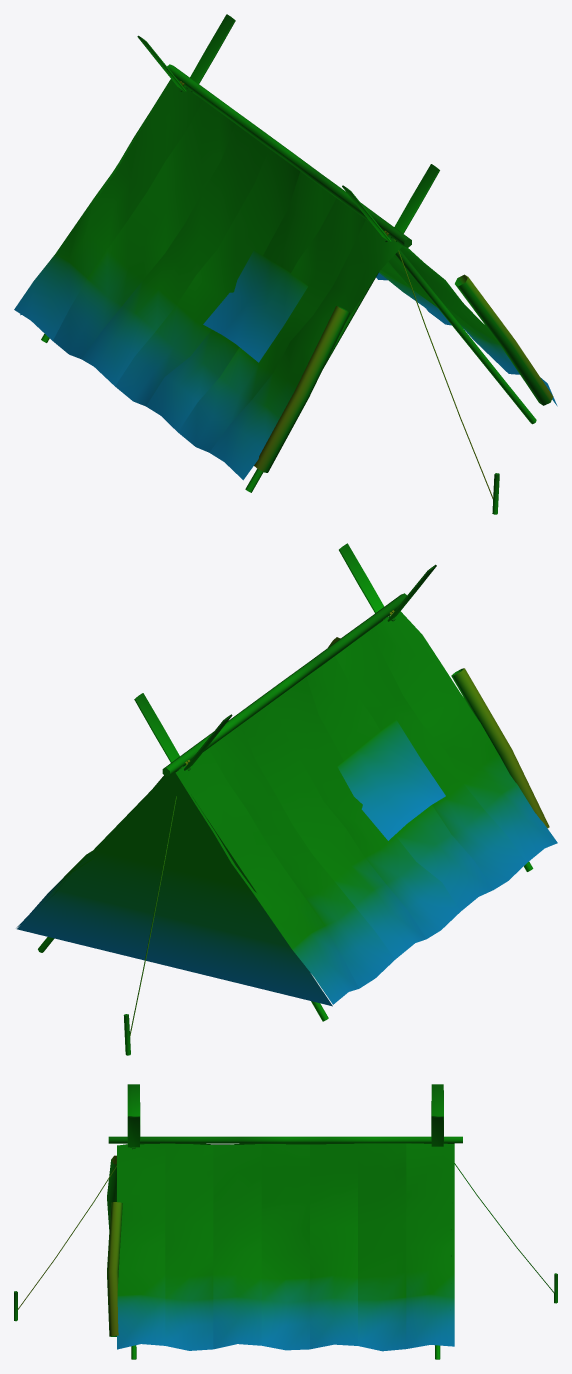
Rendered from camp_tent.glb.
The picture shows the model from 3 angles, top to bottom: view 1: azimuth 30°, elevation 25°; view 2: azimuth 150°, elevation 25°; view 3: azimuth 270°, elevation 25°; orthographic projection. The views are drawn at different scales.
Parts seen in each view (by area): view 1: camp_tent; view 2: camp_tent; view 3: camp_tent.
Boxes of the visible parts, box(x1,y1,x2,y2) form: camp_tent: box(14, 14, 557, 514); camp_tent: box(16, 543, 557, 1055); camp_tent: box(14, 1084, 557, 1359).
Size of what is drawn, in the model's own units: 3.29 by 2.76 by 6.45.
